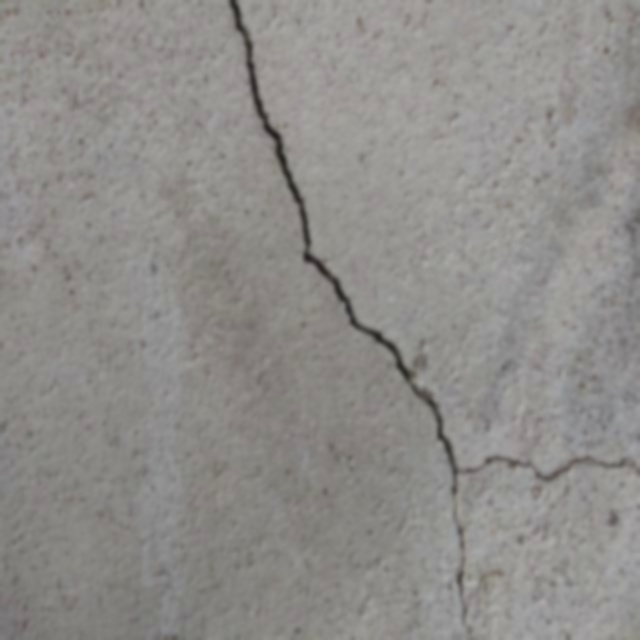SurfaceCrack: (181, 0, 626, 639)
